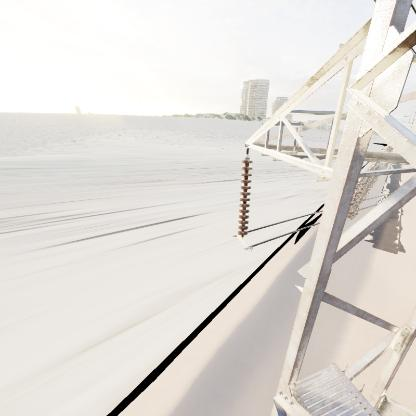insulator: (237, 155, 255, 240)
